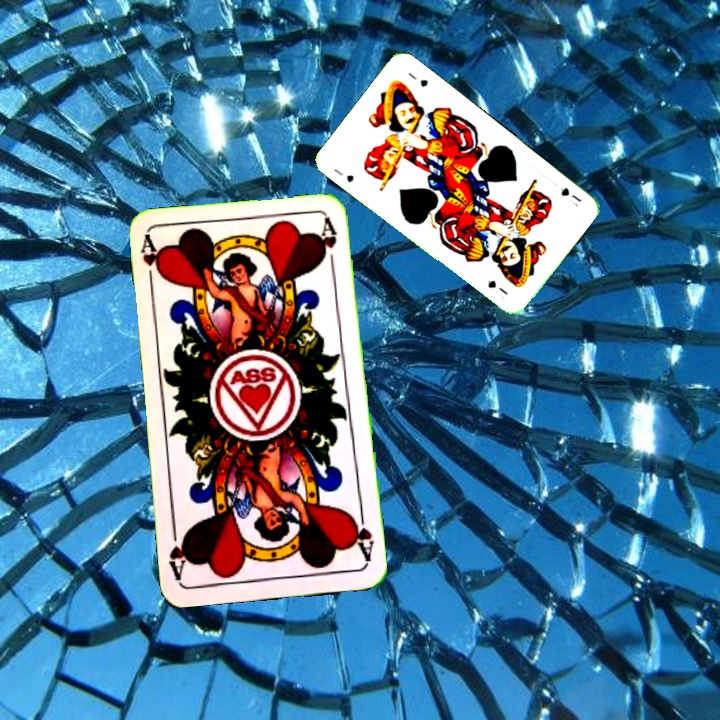GU: (557, 183, 584, 205), (329, 165, 356, 185)
HA: (347, 506, 377, 564), (137, 233, 166, 293)
